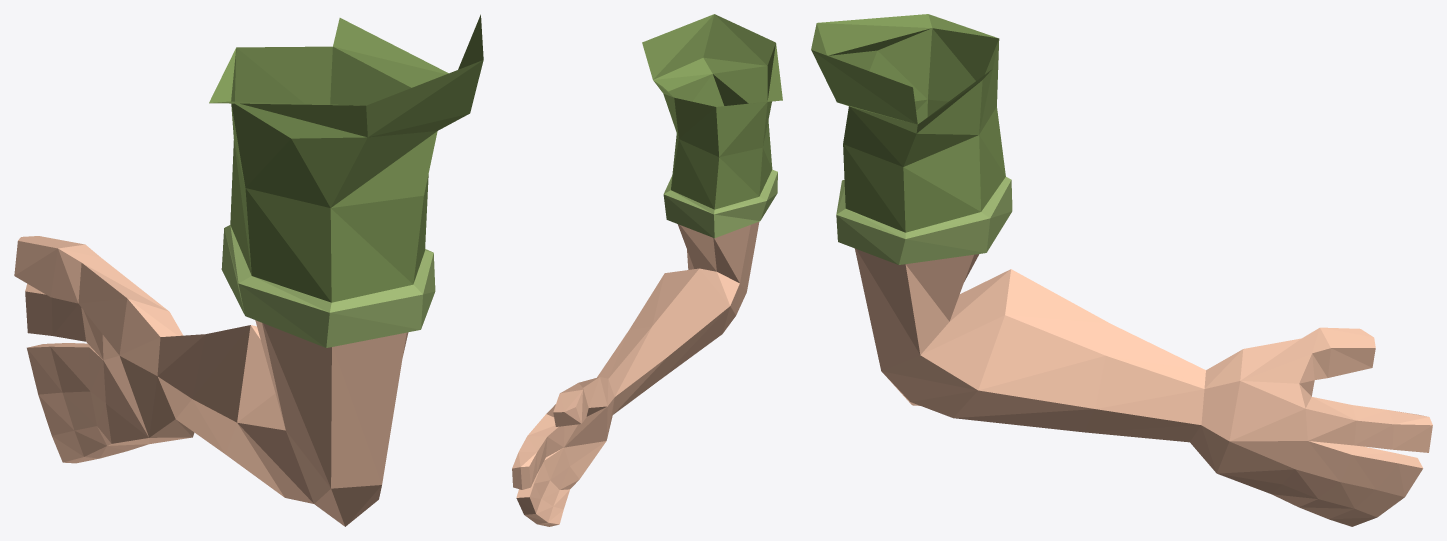
The model's file is Rigged_ArmR_74.obj.
3 renders of one model, left to right at view 1: azimuth 30°, elevation 25°; view 2: azimuth 150°, elevation 25°; view 3: azimuth 270°, elevation 25°, orthographic. The views are drawn at different scales.
Parts seen in each view (by area): view 1: Rigged_ArmR_74; view 2: Rigged_ArmR_74; view 3: Rigged_ArmR_74.
Part boxes in pixels (x1,y1,x2,y2): Rigged_ArmR_74: [14, 14, 483, 526]; Rigged_ArmR_74: [512, 14, 782, 526]; Rigged_ArmR_74: [811, 14, 1432, 526].
Bounding box in the file's own units: 0.2291 × 0.5403 × 0.6111.
1 material, 1 textured.
